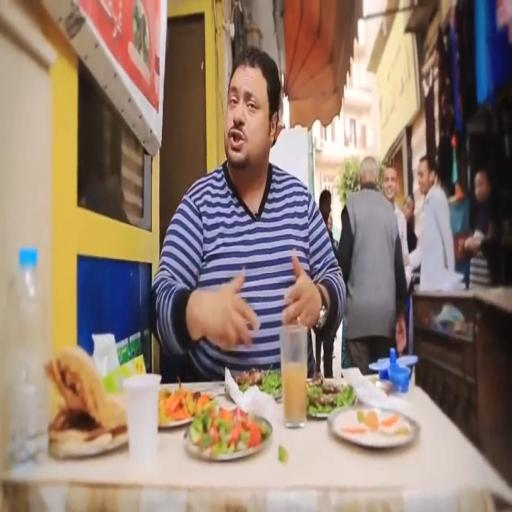nao-violencia: (334, 142, 415, 370)
